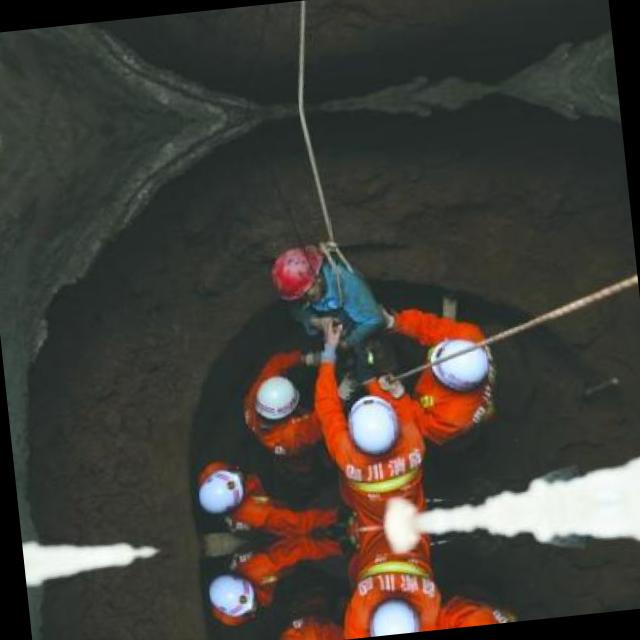helmet: (340, 388, 406, 458), (265, 242, 331, 306), (425, 332, 490, 388), (202, 567, 263, 617), (192, 466, 252, 516), (245, 372, 302, 422), (360, 592, 425, 634)
